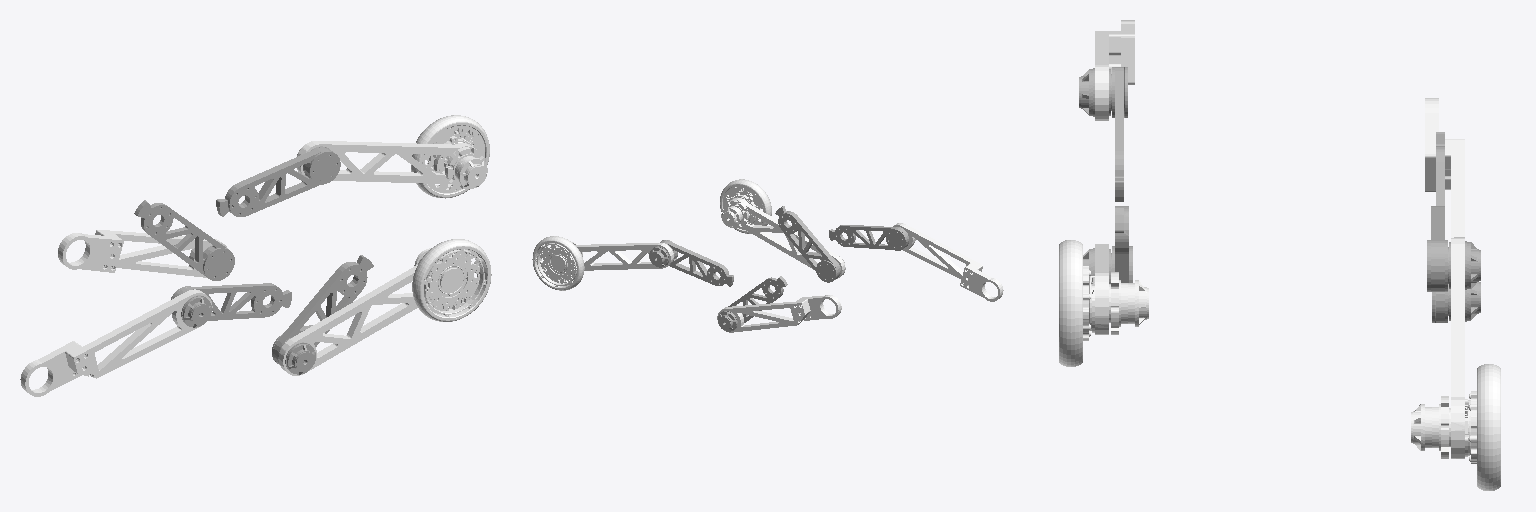
robot.urdf — chassis-rl:
<?xml version="1.0" encoding="utf-8"?>
<!-- This URDF was automatically created by SolidWorks to URDF Exporter! Originally created by Stephen Brawner (brawner@gmail.com) 
     Commit Version: 1.6.0-4-g7f85cfe  Build Version: 1.6.7995.38578
     For more information, please see http://wiki.ros.org/sw_urdf_exporter -->
<robot
  name="chassis-rl">
  <link
    name="base_link">
    <inertial>
      <origin
        xyz="-0.0067139 -0.00018909 0.0055232"
        rpy="0 0 0" />
      <mass
        value="11.339" />
      <inertia
        ixx="0.013783"
        ixy="-3.6529E-06"
        ixz="-1.0162E-05"
        iyy="0.028471"
        iyz="1.9216E-06"
        izz="0.016412" />
    </inertial>
    <visual>
      <origin
        xyz="0 0 0"
        rpy="0 0 0" />
      <geometry>
        <mesh
          filename="package://chassis-rl/meshes/base_link.STL" />
      </geometry>
      <material
        name="">
        <color
          rgba="1 1 1 1" />
      </material>
    </visual>
    <collision>
      <origin
        xyz="0 0 0"
        rpy="0 0 0" />
      <geometry>
        <mesh
          filename="package://chassis-rl/meshes/base_link.STL" />
      </geometry>
    </collision>
  </link>
  <link
    name="left_front_ham">
    <inertial>
      <origin
        xyz="0.096345 0.0047072 0.017243"
        rpy="0 0 0" />
      <mass
        value="0.34034" />
      <inertia
        ixx="0.00011924"
        ixy="1.7575E-06"
        ixz="-0.00011569"
        iyy="0.00081315"
        iyz="3.1438E-07"
        izz="0.00074173" />
    </inertial>
    <visual>
      <origin
        xyz="0 0 0"
        rpy="0 0 0" />
      <geometry>
        <mesh
          filename="package://chassis-rl/meshes/left_front_ham.STL" />
      </geometry>
      <material
        name="">
        <color
          rgba="0.75294 0.75294 0.75294 1" />
      </material>
    </visual>
    <collision>
      <origin
        xyz="0 0 0"
        rpy="0 0 0" />
      <geometry>
        <mesh
          filename="package://chassis-rl/meshes/left_front_ham.STL" />
      </geometry>
    </collision>
  </link>
  <joint
    name="left_front_hip"
    type="revolute">
    <origin
      xyz="0.071525 0.16831 0.030406"
      rpy="0 0 0" />
    <parent
      link="base_link" />
    <child
      link="left_front_ham" />
    <axis
      xyz="0 -1 0" />
    <limit
      lower="-0.17715"
      upper="1.3118"
      effort="40"
      velocity="16.755" />
  </joint>
  <link
    name="left_front_calf">
    <inertial>
      <origin
        xyz="-0.15446 -0.0015817 -0.1132"
        rpy="0 0 0" />
      <mass
        value="0.884" />
      <inertia
        ixx="0.0017587"
        ixy="2.0038E-06"
        ixz="-0.0019248"
        iyy="0.0046642"
        iyz="1.9296E-06"
        izz="0.0029982" />
    </inertial>
    <visual>
      <origin
        xyz="0 0 0"
        rpy="0 0 0" />
      <geometry>
        <mesh
          filename="package://chassis-rl/meshes/left_front_calf.STL" />
      </geometry>
      <material
        name="">
        <color
          rgba="1 1 1 1" />
      </material>
    </visual>
    <collision>
      <origin
        xyz="0 0 0"
        rpy="0 0 0" />
      <geometry>
        <mesh
          filename="package://chassis-rl/meshes/left_front_calf.STL" />
      </geometry>
    </collision>
  </link>
  <joint
    name="left_front_knee"
    type="revolute">
    <origin
      xyz="0.14273 0.021 0.025547"
      rpy="0 0 0" />
    <parent
      link="left_front_ham" />
    <child
      link="left_front_calf" />
    <axis
      xyz="0 -1 0" />
    <limit
      lower="1.9989"
      upper="2.5089"
      effort="40"
      velocity="16.755" />
  </joint>
  <link
    name="left_wheel">
    <inertial>
      <origin
        xyz="1.2603E-14 -0.0039251 9.9781E-15"
        rpy="0 0 0" />
      <mass
        value="0.337" />
      <inertia
        ixx="0.00048617"
        ixy="4.6512E-18"
        ixz="-2.874E-07"
        iyy="0.00095993"
        iyz="8.0586E-18"
        izz="0.00048652" />
    </inertial>
    <visual>
      <origin
        xyz="0 0 0"
        rpy="0 0 0" />
      <geometry>
        <mesh
          filename="package://chassis-rl/meshes/left_wheel.STL" />
      </geometry>
      <material
        name="">
        <color
          rgba="1 1 1 1" />
      </material>
    </visual>
    <collision>
      <origin
        xyz="0 0 0"
        rpy="0 0 0" />
      <geometry>
        <mesh
          filename="package://chassis-rl/meshes/left_wheel.STL" />
      </geometry>
    </collision>
  </link>
  <joint
    name="wheel_left"
    type="continuous">
    <origin
      xyz="-0.21773 0.034945 -0.15966"
      rpy="0 0 0" />
    <parent
      link="left_front_calf" />
    <child
      link="left_wheel" />
    <axis
      xyz="0 -1 0" />
    <limit
      effort="4.92"
      velocity="61.4705" />
  </joint>
  <link
    name="left_back_ham">
    <inertial>
      <origin
        xyz="-0.10143 0.0054426 0.018159"
        rpy="0 0 0" />
      <mass
        value="0.26495" />
      <inertia
        ixx="8.4309E-05"
        ixy="-2.2099E-10"
        ixz="8.0509E-05"
        iyy="0.00057487"
        iyz="8.2261E-10"
        izz="0.0005218" />
    </inertial>
    <visual>
      <origin
        xyz="0 0 0"
        rpy="0 0 0" />
      <geometry>
        <mesh
          filename="package://chassis-rl/meshes/left_back_ham.STL" />
      </geometry>
      <material
        name="">
        <color
          rgba="0.75294 0.75294 0.75294 1" />
      </material>
    </visual>
    <collision>
      <origin
        xyz="0 0 0"
        rpy="0 0 0" />
      <geometry>
        <mesh
          filename="package://chassis-rl/meshes/left_back_ham.STL" />
      </geometry>
    </collision>
  </link>
  <joint
    name="left_back_hip"
    type="revolute">
    <origin
      xyz="-0.078475 0.17081 0.030406"
      rpy="0 0 0" />
    <parent
      link="base_link" />
    <child
      link="left_back_ham" />
    <axis
      xyz="0 -1 0" />
    <limit
      lower="1.8291"
      upper="3.3187"
      effort="40"
      velocity="16.755" />
  </joint>
  <link
    name="left_back_calf">
    <inertial>
      <origin
        xyz="0.11689 -0.0085987 -0.086919"
        rpy="0 0 0" />
      <mass
        value="0.35489" />
      <inertia
        ixx="0.00051979"
        ixy="6.742E-07"
        ixz="0.00053625"
        iyy="0.0013558"
        iyz="-5.4728E-07"
        izz="0.0008489" />
    </inertial>
    <visual>
      <origin
        xyz="0 0 0"
        rpy="0 0 0" />
      <geometry>
        <mesh
          filename="package://chassis-rl/meshes/left_back_calf.STL" />
      </geometry>
      <material
        name="">
        <color
          rgba="1 1 1 1" />
      </material>
    </visual>
    <collision>
      <origin
        xyz="0 0 0"
        rpy="0 0 0" />
      <geometry>
        <mesh
          filename="package://chassis-rl/meshes/left_back_calf.STL" />
      </geometry>
    </collision>
  </link>
  <joint
    name="left_back_knee"
    type="revolute">
    <origin
      xyz="-0.14273 0.0185 0.025549"
      rpy="0 0 0" />
    <parent
      link="left_back_ham" />
    <child
      link="left_back_calf" />
    <axis
      xyz="0 -1 0" />
    <limit
      lower="0.63268"
      upper="1.1427"
      effort="40"
      velocity="16.755" />
  </joint>
  <link
    name="right_back_ham">
    <inertial>
      <origin
        xyz="0.10123 0.005343 0.018123"
        rpy="0 0 0" />
      <mass
        value="0.26364" />
      <inertia
        ixx="8.4073E-05"
        ixy="2.1027E-10"
        ixz="-8.0509E-05"
        iyy="0.00057442"
        iyz="7.8315E-10"
        izz="0.00052156" />
    </inertial>
    <visual>
      <origin
        xyz="0 0 0"
        rpy="0 0 0" />
      <geometry>
        <mesh
          filename="package://chassis-rl/meshes/right_back_ham.STL" />
      </geometry>
      <material
        name="">
        <color
          rgba="0.75294 0.75294 0.75294 1" />
      </material>
    </visual>
    <collision>
      <origin
        xyz="0 0 0"
        rpy="0 0 0" />
      <geometry>
        <mesh
          filename="package://chassis-rl/meshes/right_back_ham.STL" />
      </geometry>
    </collision>
  </link>
  <joint
    name="right_back_hip"
    type="revolute">
    <origin
      xyz="-0.078475 -0.17019 0.030406"
      rpy="0 0 -3.1416" />
    <parent
      link="base_link" />
    <child
      link="right_back_ham" />
    <axis
      xyz="0 -1 0" />
    <limit
      lower="-0.17715"
      upper="1.3118"
      effort="40"
      velocity="16.755" />
  </joint>
  <link
    name="right_back_calf">
    <inertial>
      <origin
        xyz="-0.11906 -0.0091591 -0.088474"
        rpy="0 0 0" />
      <mass
        value="0.36608" />
      <inertia
        ixx="0.00052488"
        ixy="-6.9306E-07"
        ixz="-0.00053875"
        iyy="0.0013671"
        iyz="-5.6111E-07"
        izz="0.00085556" />
    </inertial>
    <visual>
      <origin
        xyz="0 0 0"
        rpy="0 0 0" />
      <geometry>
        <mesh
          filename="package://chassis-rl/meshes/right_back_calf.STL" />
      </geometry>
      <material
        name="">
        <color
          rgba="1 1 1 1" />
      </material>
    </visual>
    <collision>
      <origin
        xyz="0 0 0"
        rpy="0 0 0" />
      <geometry>
        <mesh
          filename="package://chassis-rl/meshes/right_back_calf.STL" />
      </geometry>
    </collision>
  </link>
  <joint
    name="right_back_knee"
    type="revolute">
    <origin
      xyz="0.14273 0.0185 0.025549"
      rpy="0 0 0" />
    <parent
      link="right_back_ham" />
    <child
      link="right_back_calf" />
    <axis
      xyz="0 -1 0" />
    <limit
      lower="1.9989"
      upper="2.5089"
      effort="40"
      velocity="16.755" />
  </joint>
  <link
    name="right_front_ham">
    <inertial>
      <origin
        xyz="-0.096166 0.0046172 0.017211"
        rpy="0 0 0" />
      <mass
        value="0.33903" />
      <inertia
        ixx="0.00011901"
        ixy="-1.7575E-06"
        ixz="0.00011569"
        iyy="0.0008127"
        iyz="3.144E-07"
        izz="0.0007415" />
    </inertial>
    <visual>
      <origin
        xyz="0 0 0"
        rpy="0 0 0" />
      <geometry>
        <mesh
          filename="package://chassis-rl/meshes/right_front_ham.STL" />
      </geometry>
      <material
        name="">
        <color
          rgba="0.75294 0.75294 0.75294 1" />
      </material>
    </visual>
    <collision>
      <origin
        xyz="0 0 0"
        rpy="0 0 0" />
      <geometry>
        <mesh
          filename="package://chassis-rl/meshes/right_front_ham.STL" />
      </geometry>
    </collision>
  </link>
  <joint
    name="right_front_hip"
    type="revolute">
    <origin
      xyz="0.071525 -0.16769 0.030406"
      rpy="0 0 -3.1416" />
    <parent
      link="base_link" />
    <child
      link="right_front_ham" />
    <axis
      xyz="0 -1 0" />
    <limit
      lower="1.8291"
      upper="3.3187"
      effort="40"
      velocity="16.755" />
  </joint>
  <link
    name="right_front_calf">
    <inertial>
      <origin
        xyz="0.15431 -0.0015063 -0.11309"
        rpy="0 0 0" />
      <mass
        value="0.882" />
      <inertia
        ixx="0.0017587"
        ixy="-2.0041E-06"
        ixz="0.0019251"
        iyy="0.0046642"
        iyz="1.9298E-06"
        izz="0.0029984" />
    </inertial>
    <visual>
      <origin
        xyz="0 0 0"
        rpy="0 0 0" />
      <geometry>
        <mesh
          filename="package://chassis-rl/meshes/right_front_calf.STL" />
      </geometry>
      <material
        name="">
        <color
          rgba="1 1 1 1" />
      </material>
    </visual>
    <collision>
      <origin
        xyz="0 0 0"
        rpy="0 0 0" />
      <geometry>
        <mesh
          filename="package://chassis-rl/meshes/right_front_calf.STL" />
      </geometry>
    </collision>
  </link>
  <joint
    name="right_front_knee"
    type="revolute">
    <origin
      xyz="-0.14273 0.021 0.025547"
      rpy="0 0 0" />
    <parent
      link="right_front_ham" />
    <child
      link="right_front_calf" />
    <axis
      xyz="0 -1 0" />
    <limit
      lower="0.63268"
      upper="1.1427"
      effort="40"
      velocity="16.755" />
  </joint>
  <link
    name="right_wheel">
    <inertial>
      <origin
        xyz="1.016E-14 -0.0038064 1.2421E-15"
        rpy="0 0 0" />
      <mass
        value="0.337" />
      <inertia
        ixx="0.00049754"
        ixy="6.2850E-18"
        ixz="2.7173E-07"
        iyy="0.00098169"
        iyz="1.5037E-18"
        izz="0.00049786" />
    </inertial>
    <visual>
      <origin
        xyz="0 0 0"
        rpy="0 0 0" />
      <geometry>
        <mesh
          filename="package://chassis-rl/meshes/right_wheel.STL" />
      </geometry>
      <material
        name="">
        <color
          rgba="1 1 1 1" />
      </material>
    </visual>
    <collision>
      <origin
        xyz="0 0 0"
        rpy="0 0 0" />
      <geometry>
        <mesh
          filename="package://chassis-rl/meshes/right_wheel.STL" />
      </geometry>
    </collision>
  </link>
  <joint
    name="wheel_right"
    type="continuous">
    <origin
      xyz="0.21773 0.034945 -0.15966"
      rpy="0 0 0" />
    <parent
      link="right_front_calf" />
    <child
      link="right_wheel" />
    <axis
      xyz="0 -1 0" />
    <limit
      effort="4.92"
      velocity="61.4705" />
  </joint>
</robot>

--- Render facts (derived) ---
3 views of the same robot in one strip: view 1: azimuth 30°, elevation 25°; view 2: azimuth 150°, elevation 25°; view 3: azimuth 270°, elevation 25° (orthographic).
Model chassis-rl with 11 links and 10 joints (8 revolute, 2 continuous), rooted at base_link, posed all joints at 0 but 6 set to mid-range because 0 is outside their limits (left_front_knee = 2.25, left_back_hip = 2.57, left_back_knee = 0.8877, right_back_knee = 2.25, right_front_hip = 2.57, right_front_knee = 0.8877).
Visible links, largest first — view 1: right_back_calf, left_front_calf, right_front_calf, right_wheel, left_front_ham, left_back_calf, right_front_ham, left_back_ham, right_back_ham, left_wheel; view 2: right_back_calf, left_back_calf, right_front_calf, left_front_calf, left_wheel, right_front_ham, left_front_ham, right_back_ham, left_back_ham, right_wheel; view 3: left_front_calf, right_front_calf, left_wheel, right_wheel, left_back_calf, right_back_calf, left_front_ham, right_back_ham, left_back_ham, right_front_ham.
Link boxes in pixels (x1,y1,x2,y2): right_back_calf: [20, 289, 212, 396]; left_front_calf: [297, 136, 487, 188]; right_front_calf: [278, 248, 467, 375]; right_wheel: [412, 239, 491, 321]; left_front_ham: [216, 146, 340, 216]; left_back_calf: [58, 230, 227, 277]; right_front_ham: [272, 255, 373, 374]; left_back_ham: [134, 200, 234, 280]; right_back_ham: [171, 283, 291, 327]; left_wheel: [411, 115, 489, 198]; right_back_calf: [893, 223, 1003, 301]; left_back_calf: [717, 295, 841, 332]; right_front_calf: [721, 193, 845, 279]; left_front_calf: [548, 242, 673, 274]; left_wheel: [532, 236, 584, 290]; right_front_ham: [775, 206, 844, 282]; left_front_ham: [649, 240, 733, 286]; right_back_ham: [829, 225, 908, 250]; left_back_ham: [718, 276, 787, 331]; right_wheel: [720, 179, 771, 233]; left_front_calf: [1411, 237, 1476, 463]; right_front_calf: [1083, 244, 1148, 340]; left_wheel: [1477, 364, 1500, 490]; right_wheel: [1059, 240, 1082, 366]; left_back_calf: [1425, 98, 1464, 237]; right_back_calf: [1095, 20, 1134, 120]; left_front_ham: [1427, 206, 1480, 291]; right_back_ham: [1079, 67, 1127, 201]; left_back_ham: [1432, 132, 1480, 322]; right_front_ham: [1083, 206, 1132, 283].
Bounding box of the posed robot: 1.05 × 0.4704 × 0.1838 m (x, y, z).
Meshes: 11 distinct files referenced, 10 mesh visuals loaded (10 binary STL); not drawn: 1 (reference not matched to a file when rendering).
